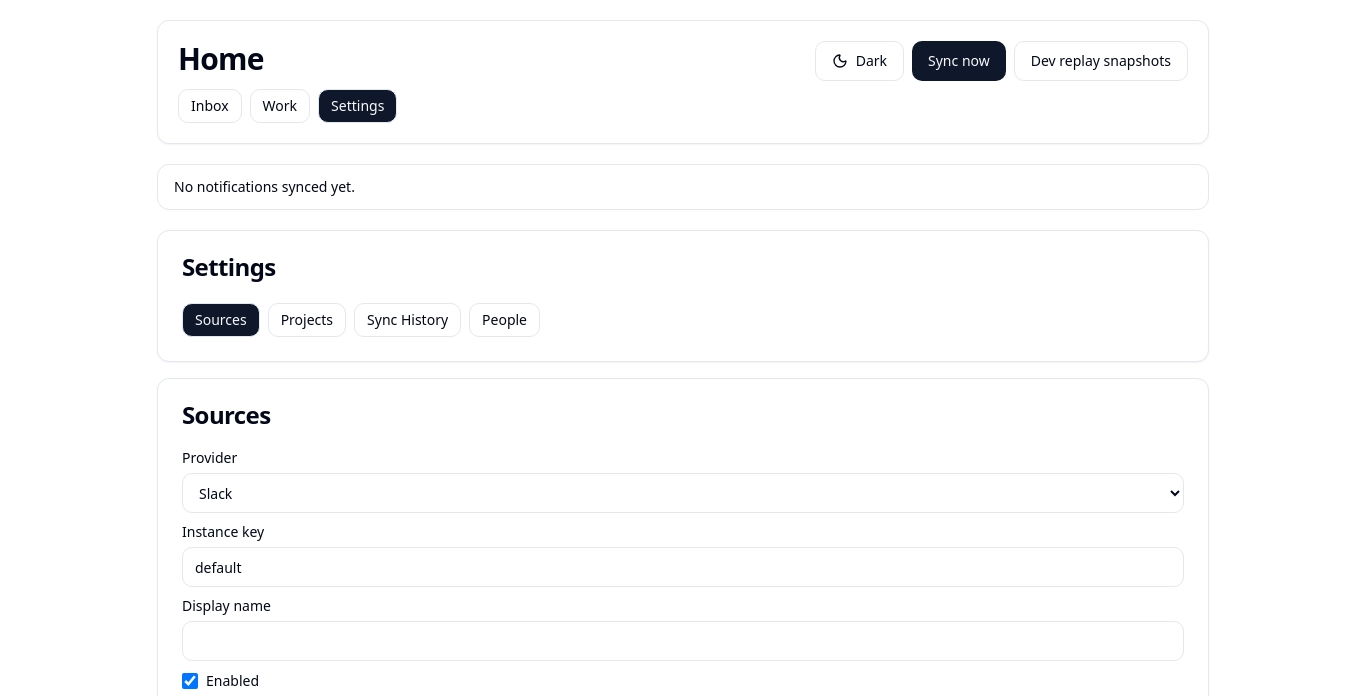
Test case: App › renders settings subpage routes and subnavigation
Expected: the heading "Sources" is shown, [182,398,270,431]
What coordinates should you click on to do the following:
click the link "Projects"
I would click on:
 (307, 320)
Its box is [268,303,346,337].
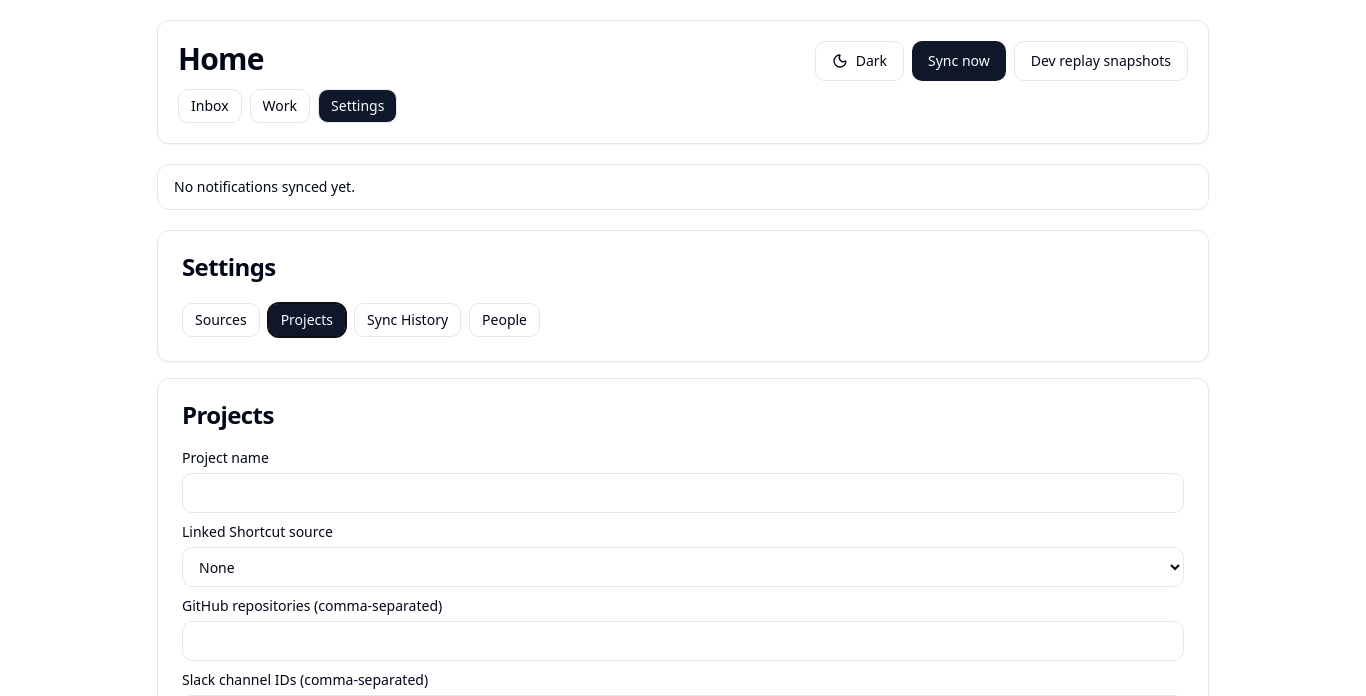
Now the heading "Projects" is shown, box [182,398,274,431]
What coordinates should you click on to do the following:
click the link "Sync History"
I would click on:
 (408, 320)
Its box is [354,303,461,337].
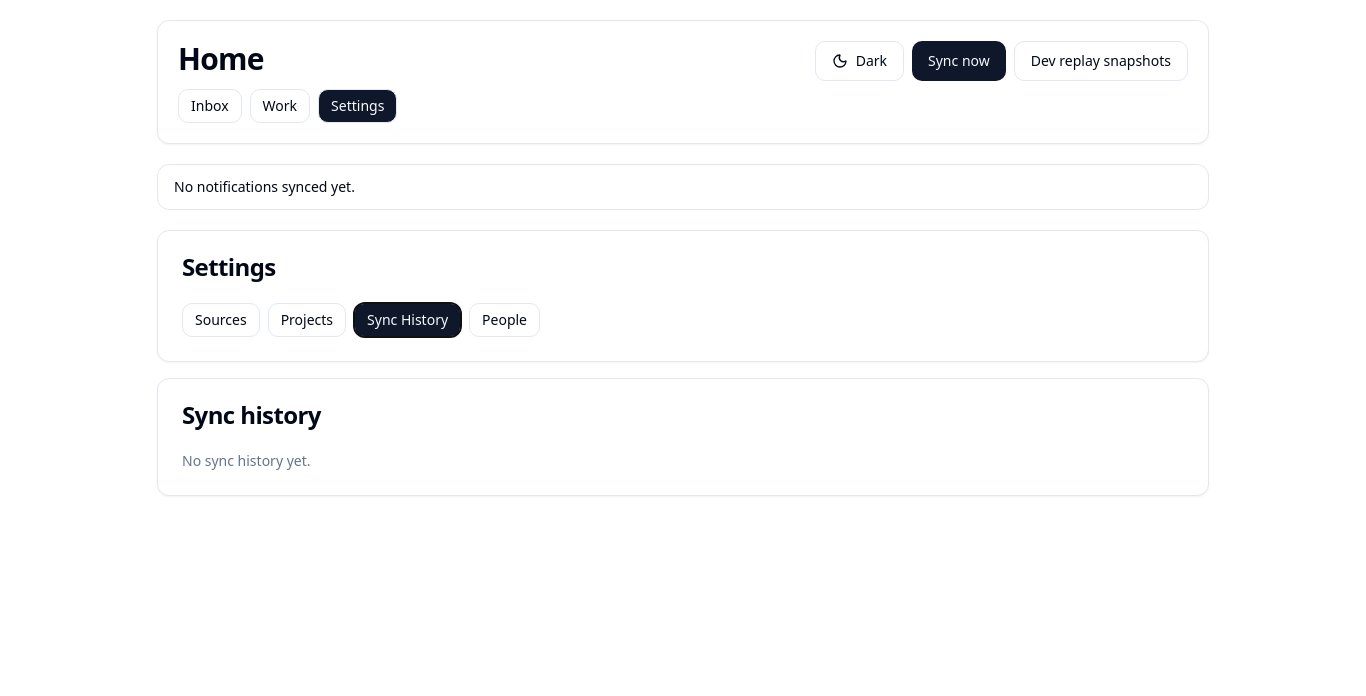
Now the heading "Sync history" is shown, box [182,398,321,431]
What coordinates should you click on to do the following:
click the link "People"
I would click on:
 (505, 320)
Its box is [469,303,540,337].
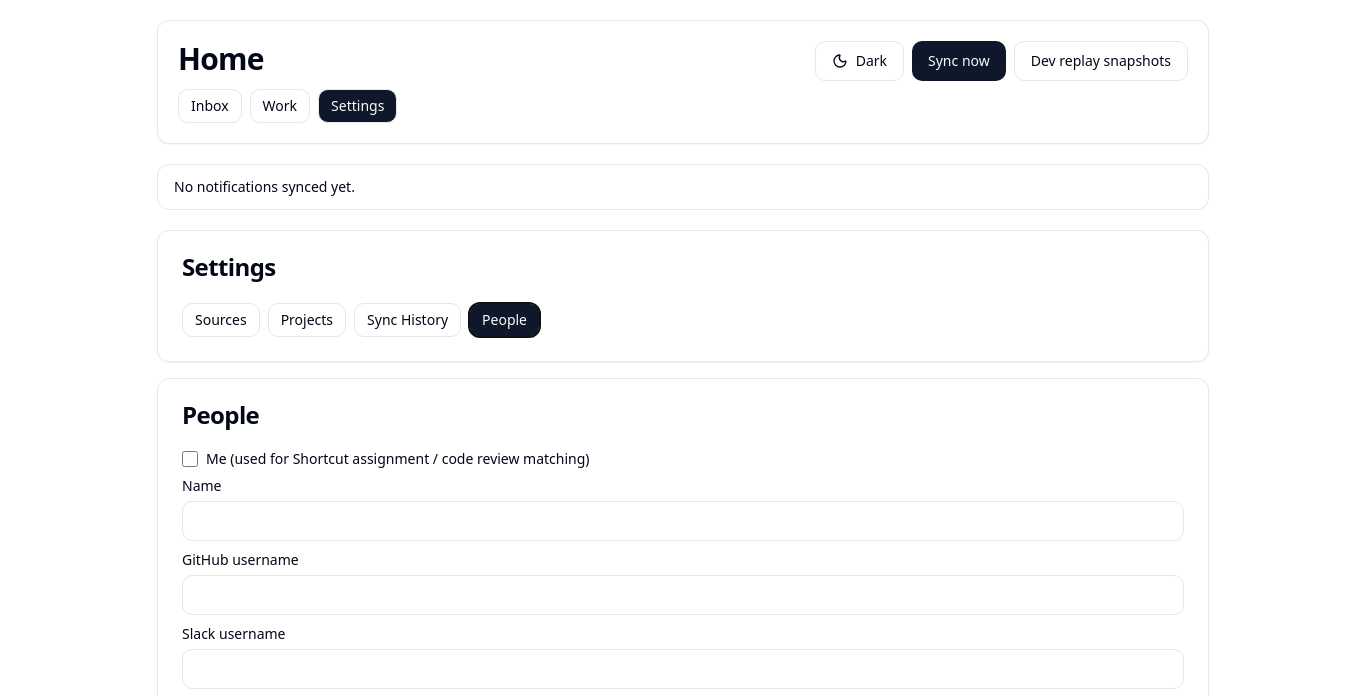
Now the heading "People" is shown, box [182,398,259,431]
